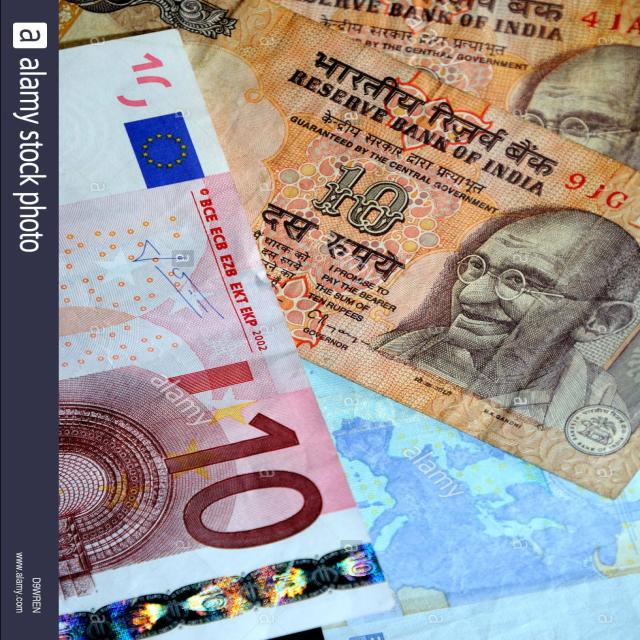10IndianRupees: (188, 14, 640, 446)
